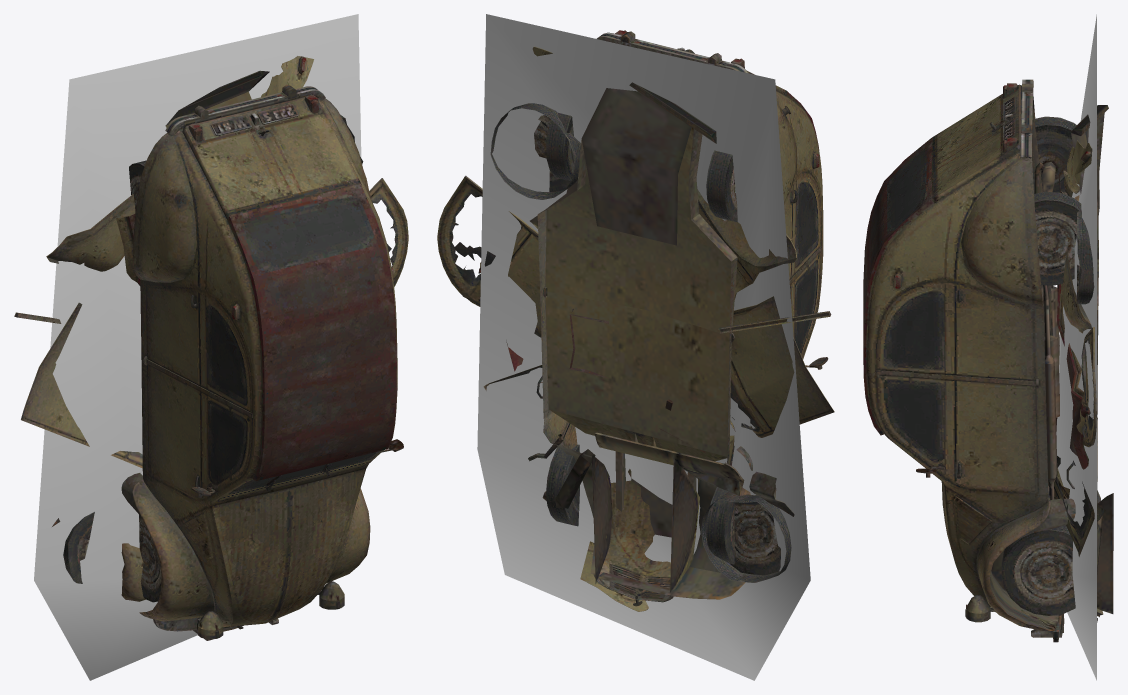
Rendered from hd_envEU_010_Cars_01.glb.
3 renders of one model, left to right at view 1: azimuth 30°, elevation 25°; view 2: azimuth 150°, elevation 25°; view 3: azimuth 270°, elevation 25°, orthographic. The views are drawn at different scales.
Parts seen in each view (by area): view 1: set_0_group_1, set_0_group_2, set_0_group_0; view 2: set_0_group_0, set_0_group_2, set_0_group_1; view 3: set_0_group_1, set_0_group_0, set_0_group_2.
Boxes of the visible parts, x1,y1,x2,y2 form: set_0_group_1: (121, 84, 403, 640); set_0_group_2: (34, 14, 361, 680); set_0_group_0: (14, 56, 408, 601); set_0_group_0: (437, 46, 834, 611); set_0_group_2: (477, 14, 810, 680); set_0_group_1: (546, 30, 828, 564); set_0_group_1: (863, 79, 1081, 642); set_0_group_0: (1048, 105, 1113, 622); set_0_group_2: (1056, 14, 1096, 680).
Size of the model in its own units: 2.97 by 4.37 by 1.7.
3 materials, 2 textured.
